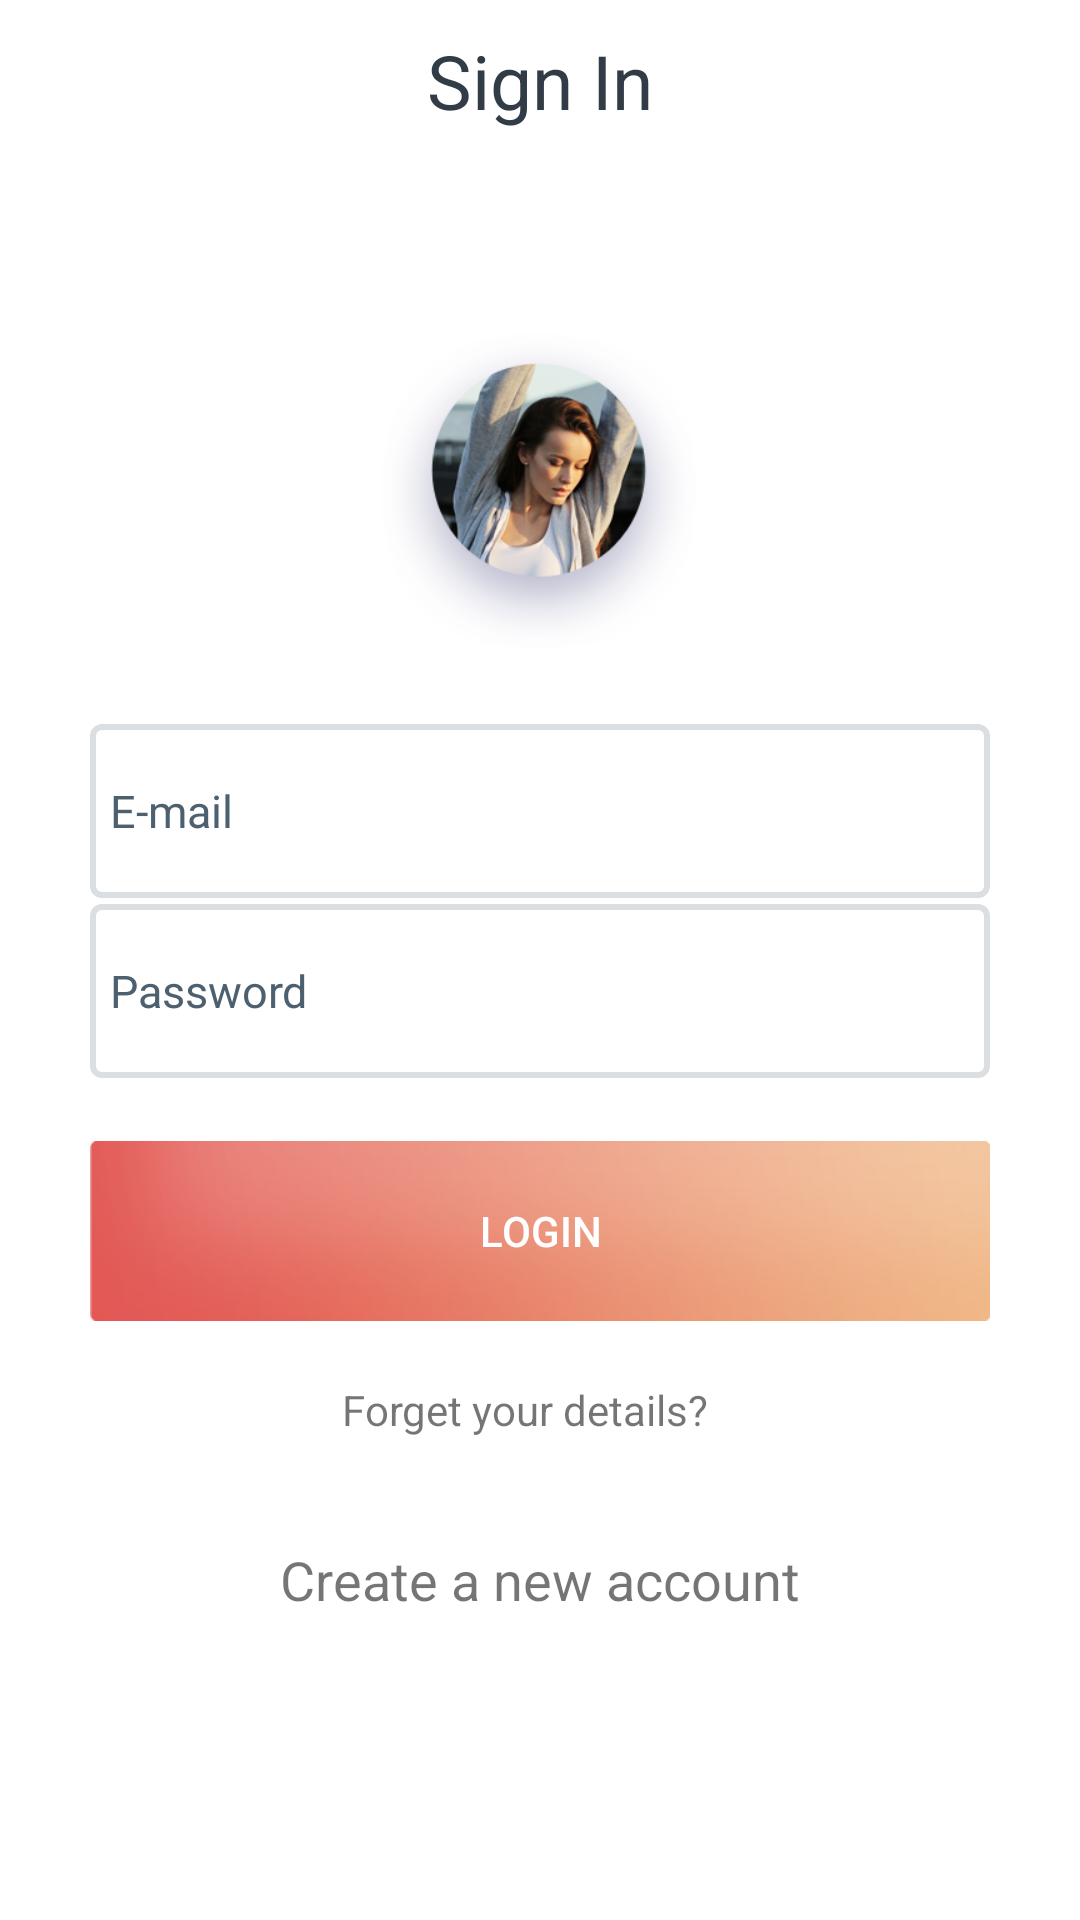

Icons on this 1080w x 1920h Android screen, each with its box as (x1, y1, x2, y2):
profile: (422, 363, 655, 608)
